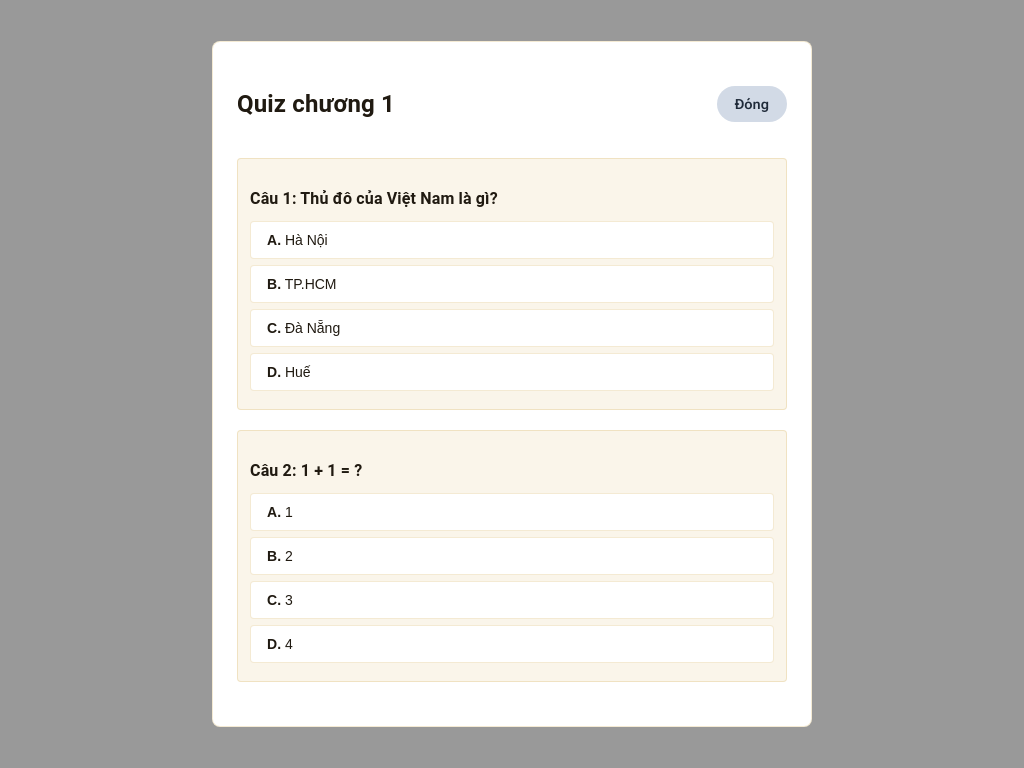
Test: QuizPlayModal › shows result after all questions answered
The image size is (1024, 768).
Click the button "A. Hà Nội".
click(306, 240)  # box [250,221,774,259]
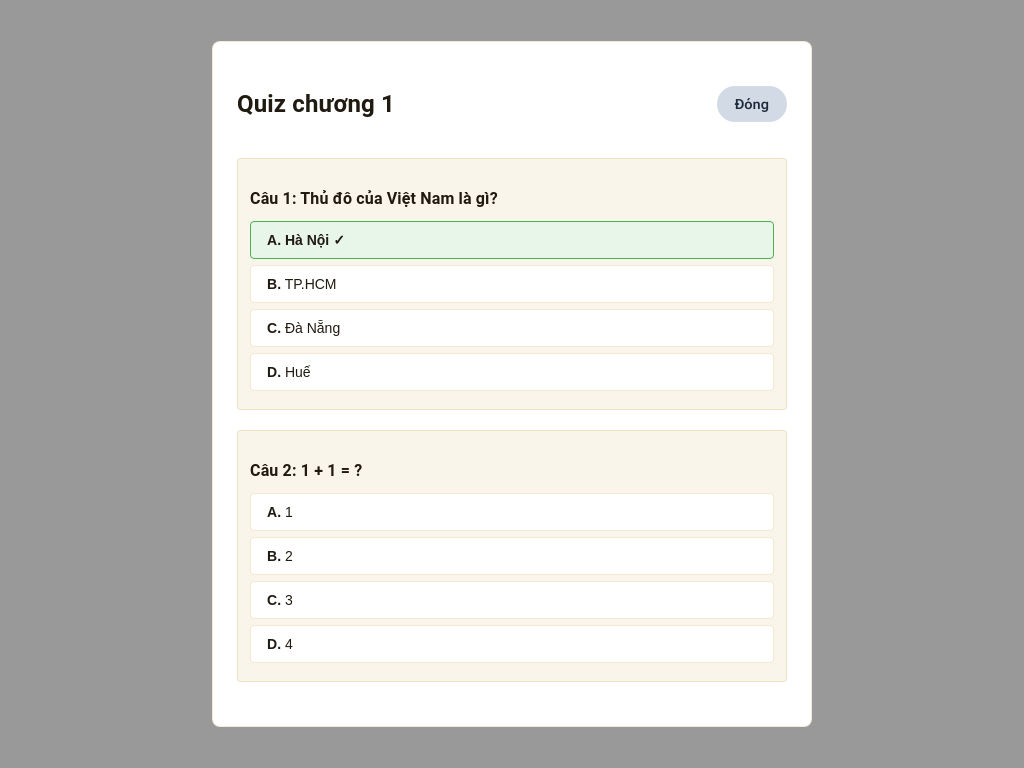
Click the button "B. 2".
click(272, 556)  # box [250,537,774,575]
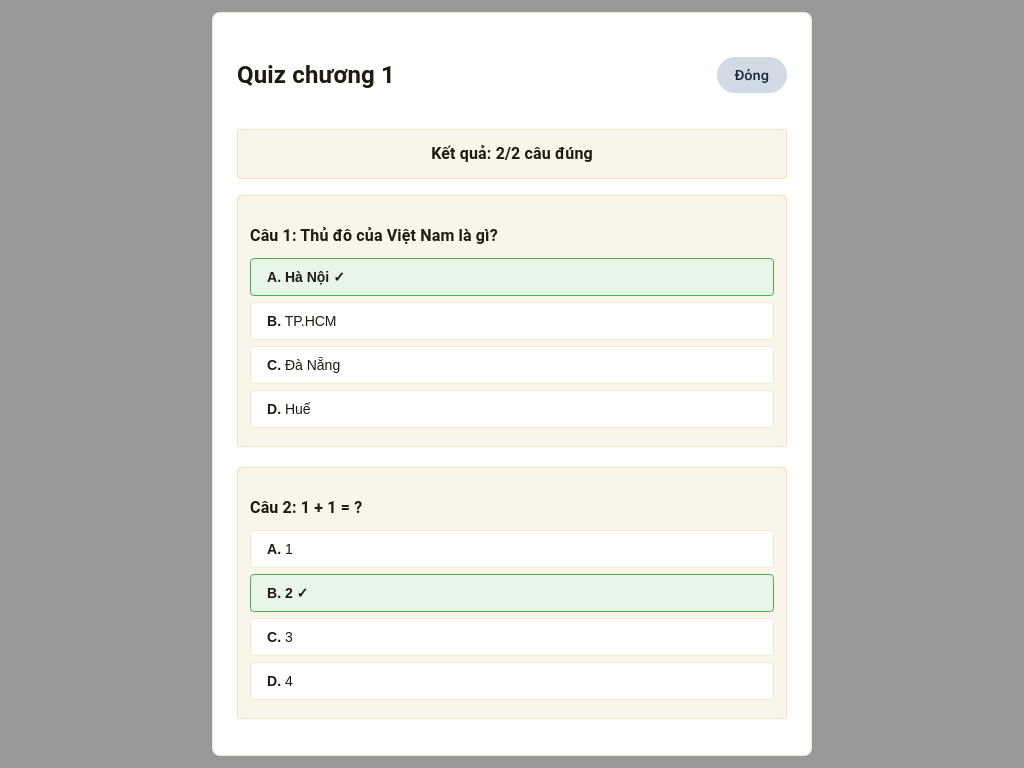
Check: the text "Kết quả: 2/2 câu đúng" is shown, box [431,144,593,163]
